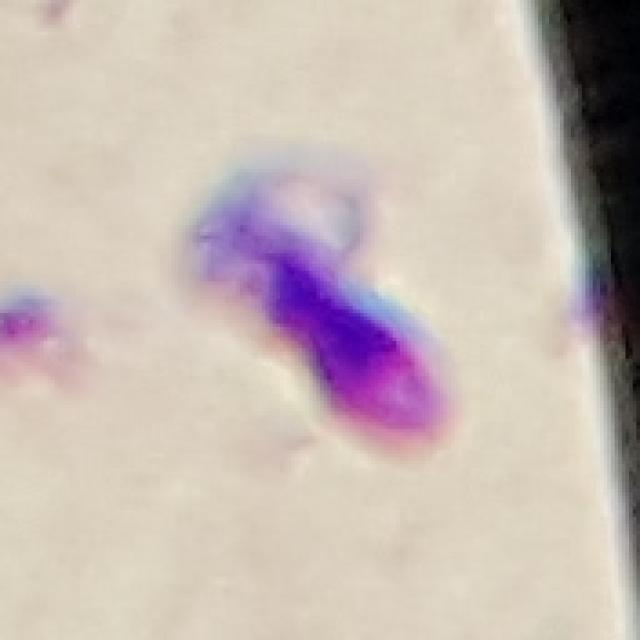abnormal sperm: (167, 146, 477, 464)
